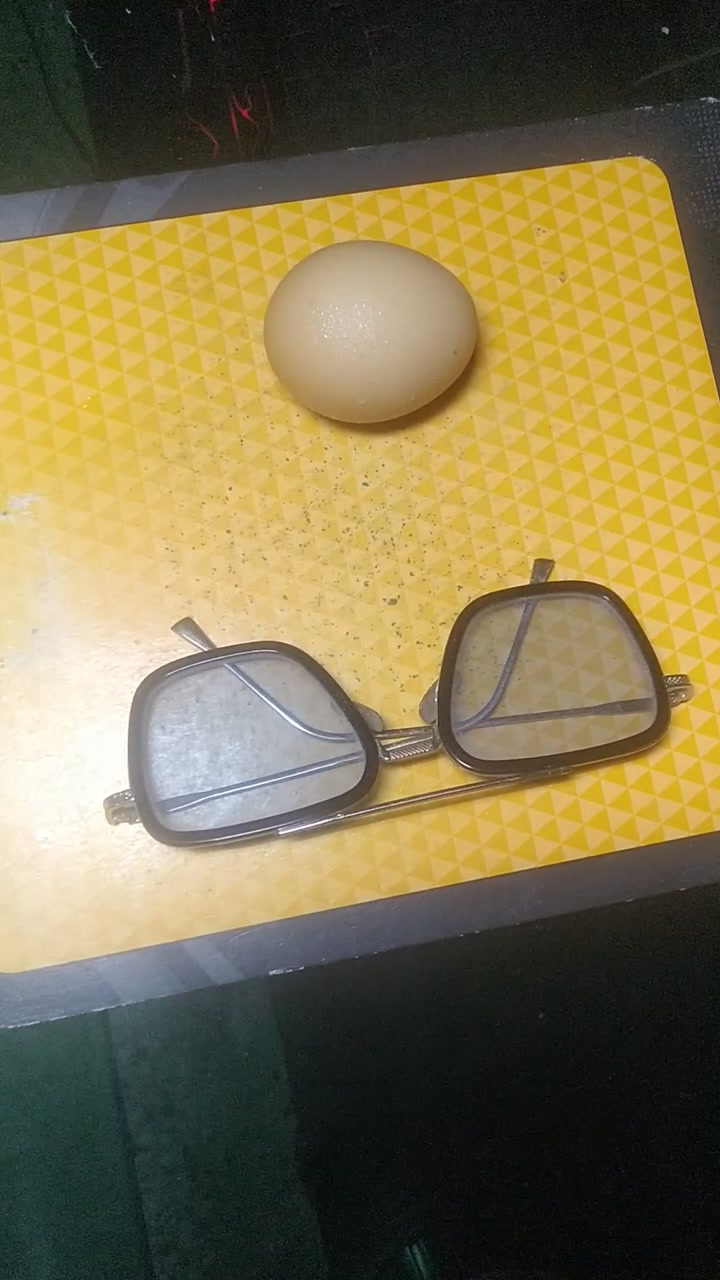egg: (263, 238, 488, 441)
sunglass: (100, 556, 703, 853)
